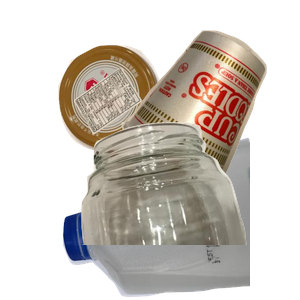glass: (74, 120, 300, 300)
metal: (56, 43, 211, 187)
plastic: (60, 135, 300, 300)
trash: (119, 28, 300, 207)
